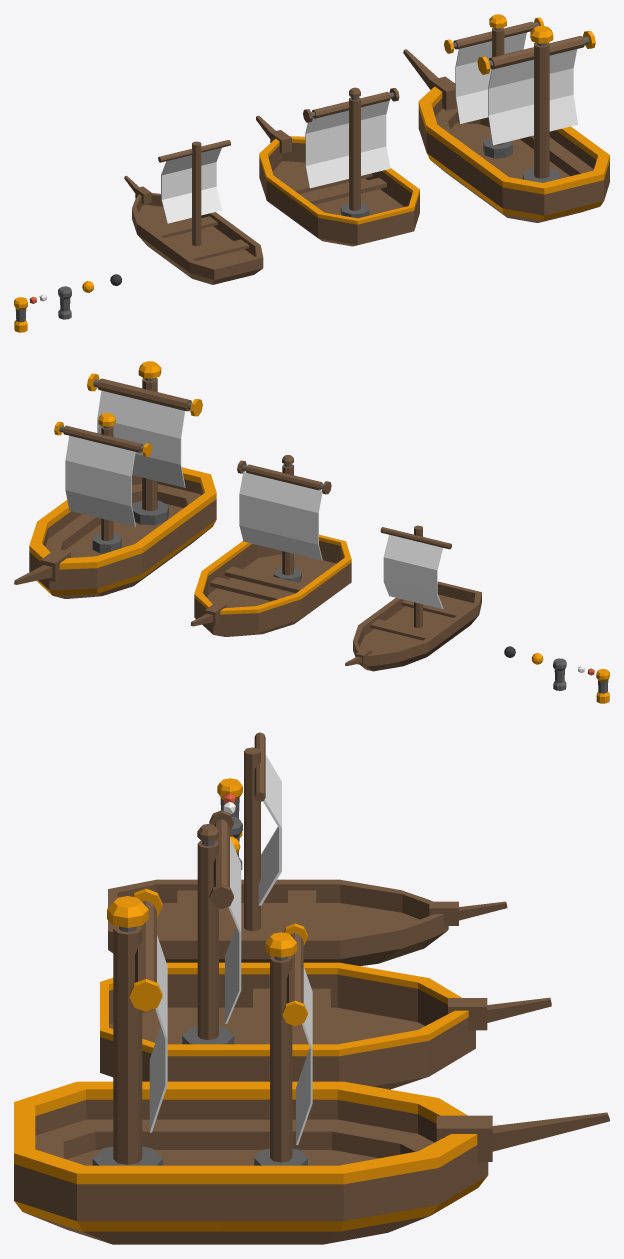
Rendered from PirateAssets.fbx.
The picture shows the model from 3 angles, top to bottom: view 1: azimuth 30°, elevation 25°; view 2: azimuth 150°, elevation 25°; view 3: azimuth 270°, elevation 25°; orthographic projection. The views are drawn at different scales.
Parts seen in each view (by area): view 1: boat_03.001, boat_02, boat_body, boat_flag_03, boat_flag_02, boat_03, boat_flag, boat_flag_03_01, boat_2_Mast, boat_3_Mast.001, boat_mast, Cannon_02; view 2: boat_03.001, boat_02, boat_body, boat_flag_02, boat_flag_03_01, boat_flag_03, boat_flag, boat_03, boat_3_Mast.001, boat_2_Mast, boat_mast; view 3: boat_03.001, boat_02, boat_body, boat_03, boat_3_Mast.001, boat_2_Mast, boat_mast, boat_flag_03, boat_flag_02, boat_flag, boat_flag_03_01.
Part boxes in pixels (bbox=[...]): boat_03.001: bbox=[403, 49, 609, 222]; boat_02: bbox=[256, 115, 419, 246]; boat_body: bbox=[124, 175, 263, 284]; boat_flag_03: bbox=[488, 49, 577, 145]; boat_flag_02: bbox=[305, 100, 390, 188]; boat_03: bbox=[477, 25, 595, 182]; boat_flag: bbox=[161, 147, 221, 223]; boat_flag_03_01: bbox=[455, 32, 526, 123]; boat_2_Mast: bbox=[303, 87, 399, 218]; boat_3_Mast.001: bbox=[444, 14, 543, 158]; boat_mast: bbox=[158, 140, 230, 246]; Cannon_02: bbox=[14, 297, 27, 332]; boat_03.001: bbox=[14, 467, 216, 598]; boat_02: bbox=[190, 534, 351, 636]; boat_body: bbox=[345, 581, 481, 671]; boat_flag_02: bbox=[239, 471, 322, 560]; boat_flag_03_01: bbox=[65, 435, 135, 526]; boat_flag_03: bbox=[97, 390, 185, 487]; boat_flag: bbox=[383, 534, 443, 608]; boat_03: bbox=[87, 361, 202, 525]; boat_3_Mast.001: bbox=[54, 412, 152, 553]; boat_2_Mast: bbox=[237, 455, 331, 582]; boat_mast: bbox=[380, 525, 451, 628]; boat_03.001: bbox=[14, 1081, 609, 1244]; boat_02: bbox=[100, 962, 551, 1089]; boat_body: bbox=[108, 879, 507, 966]; boat_03: bbox=[92, 888, 162, 1165]; boat_3_Mast.001: bbox=[254, 923, 307, 1165]; boat_2_Mast: bbox=[182, 810, 234, 1044]; boat_mast: bbox=[244, 732, 265, 931]; boat_flag_03: bbox=[149, 935, 167, 1132]; boat_flag_02: bbox=[225, 838, 241, 1023]; boat_flag: bbox=[258, 755, 281, 905]; boat_flag_03_01: bbox=[296, 966, 312, 1144].
Bounding box in the file's own units: 303 × 106 × 161.
Materials: 1 (1 with a texture image).
